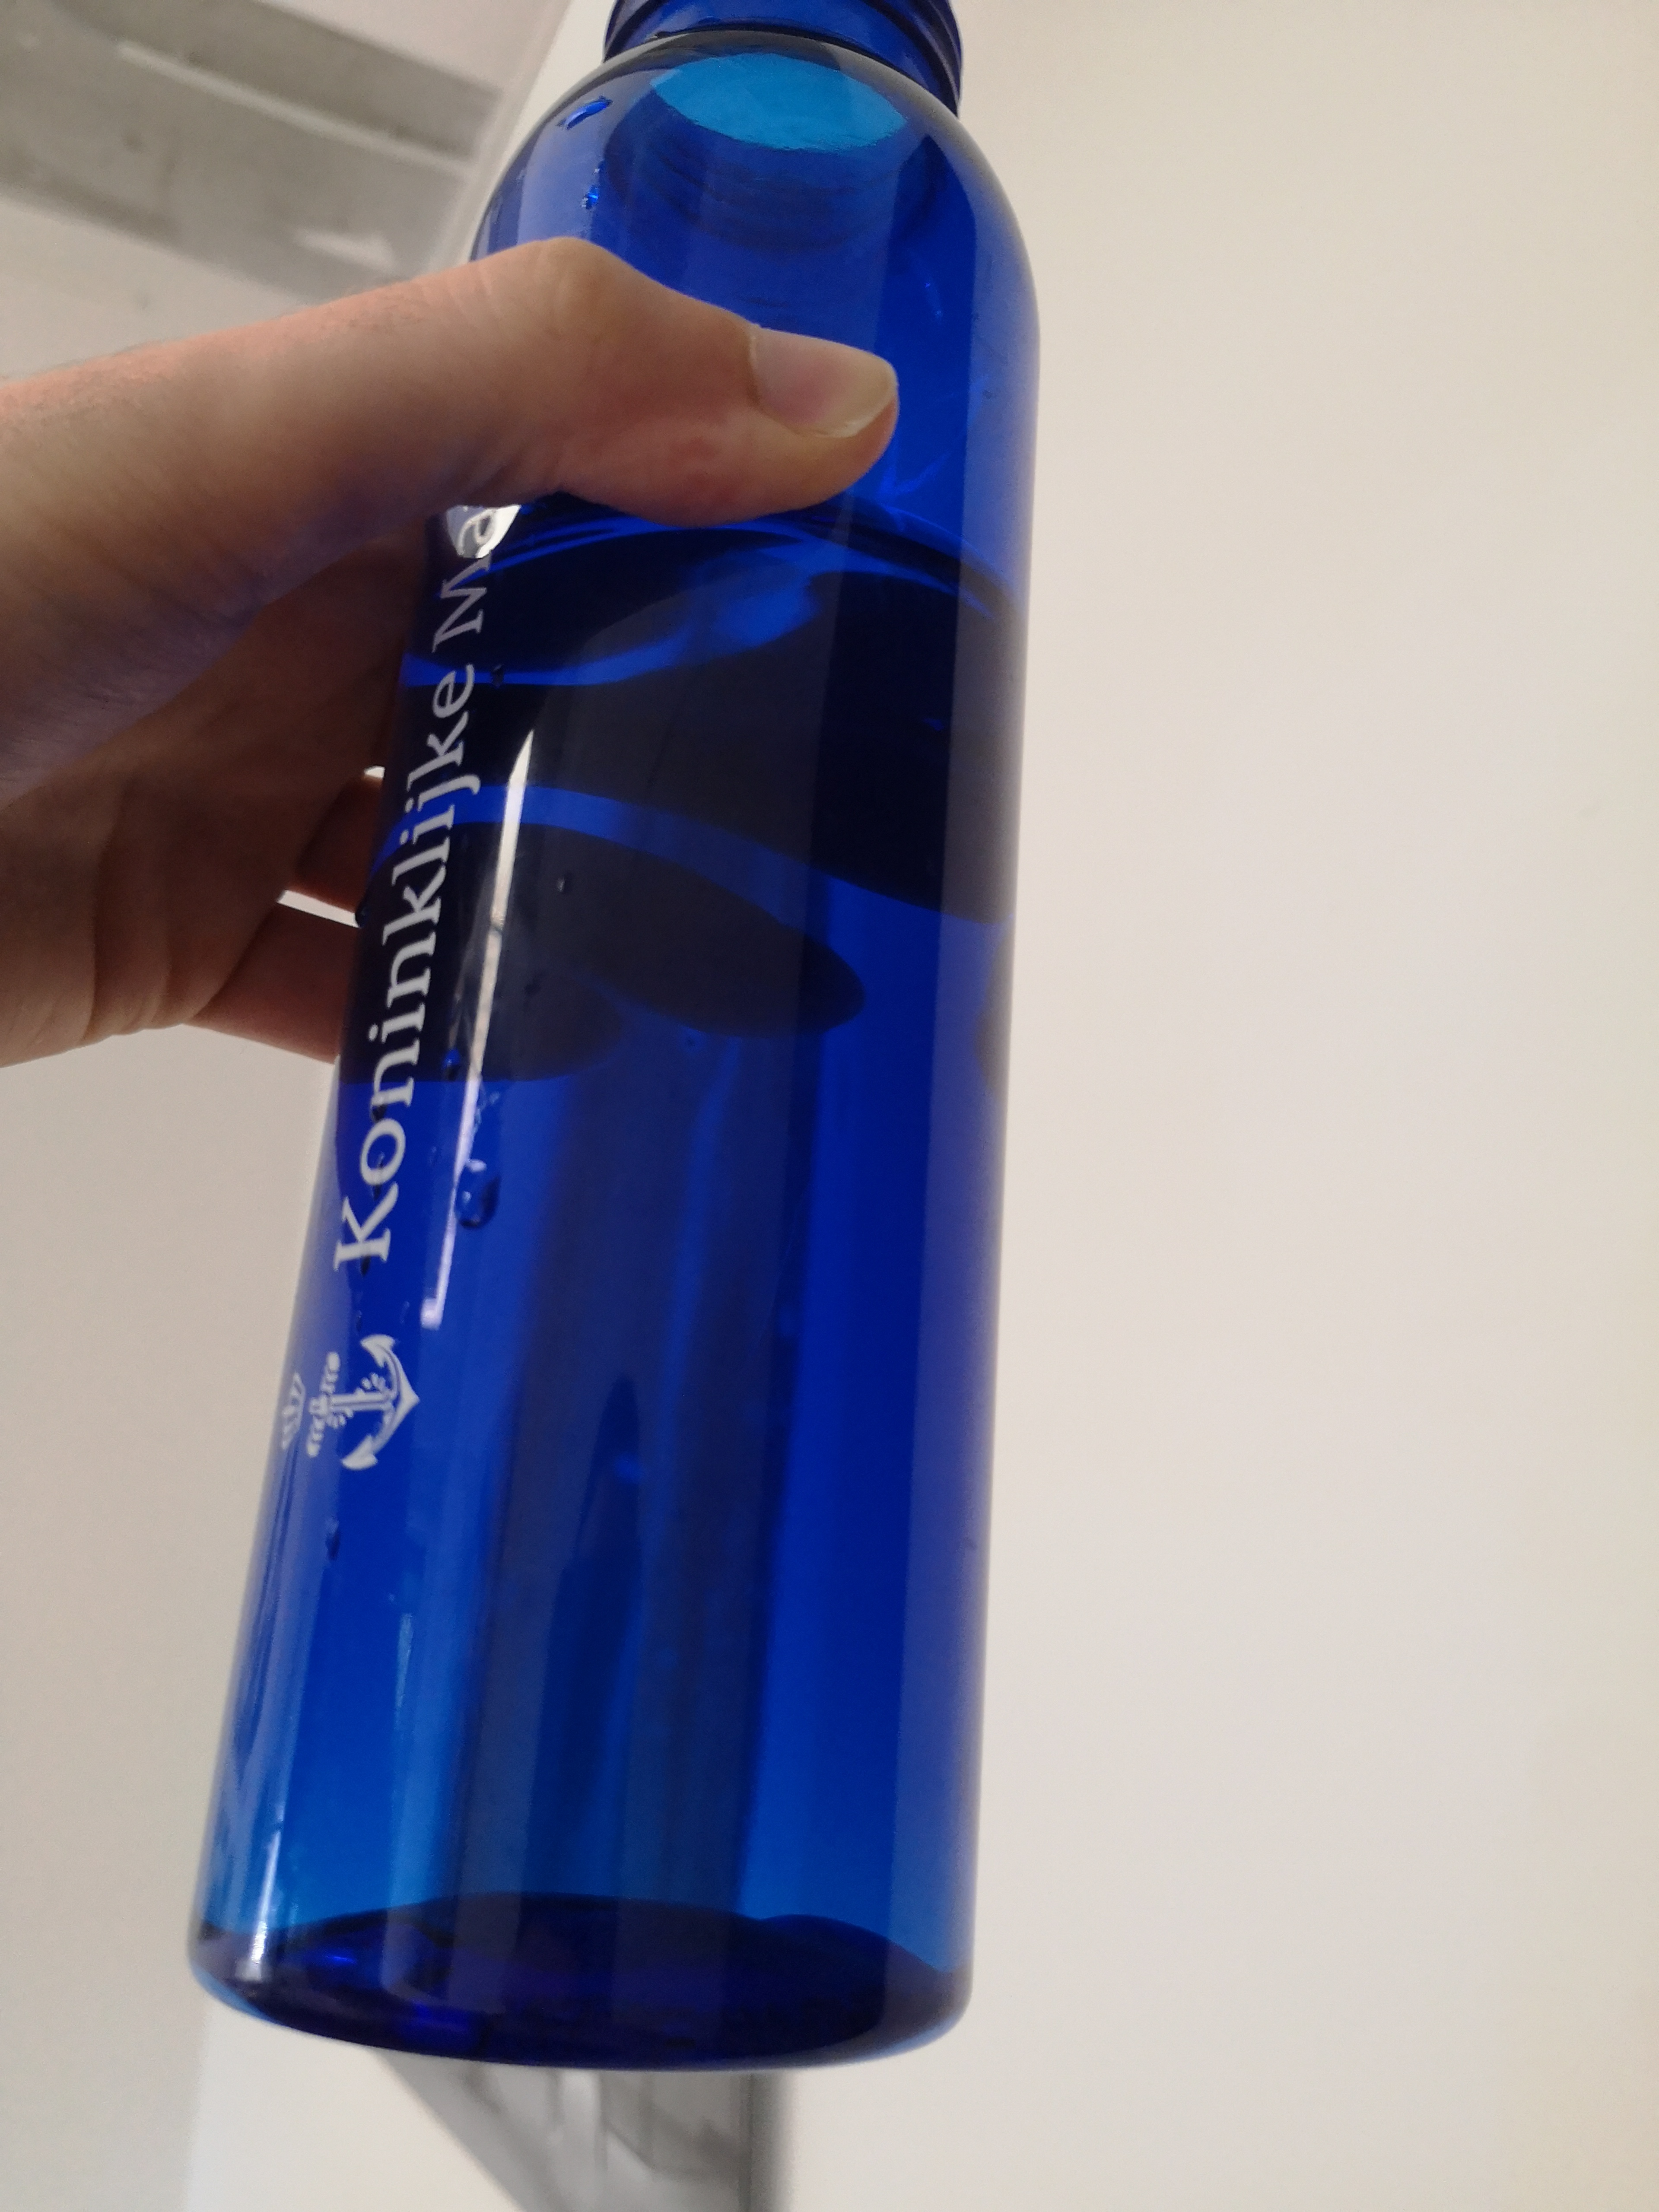plastic_bottle: (171, 0, 1065, 2107)
